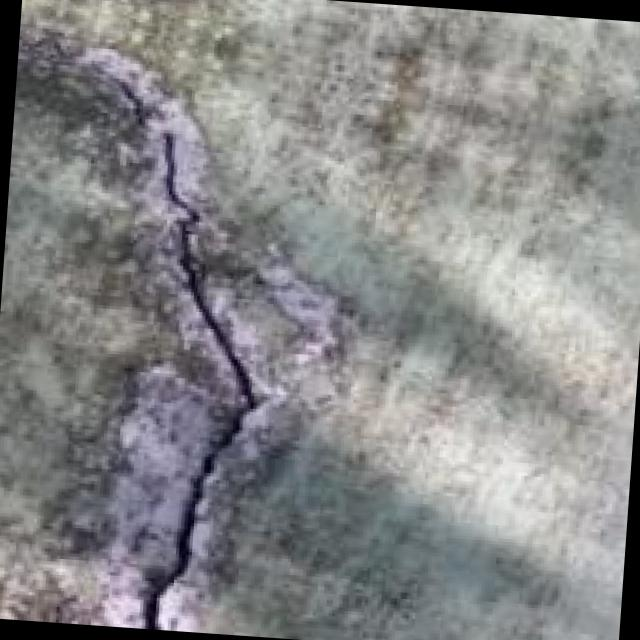crack: (0, 21, 349, 636)
